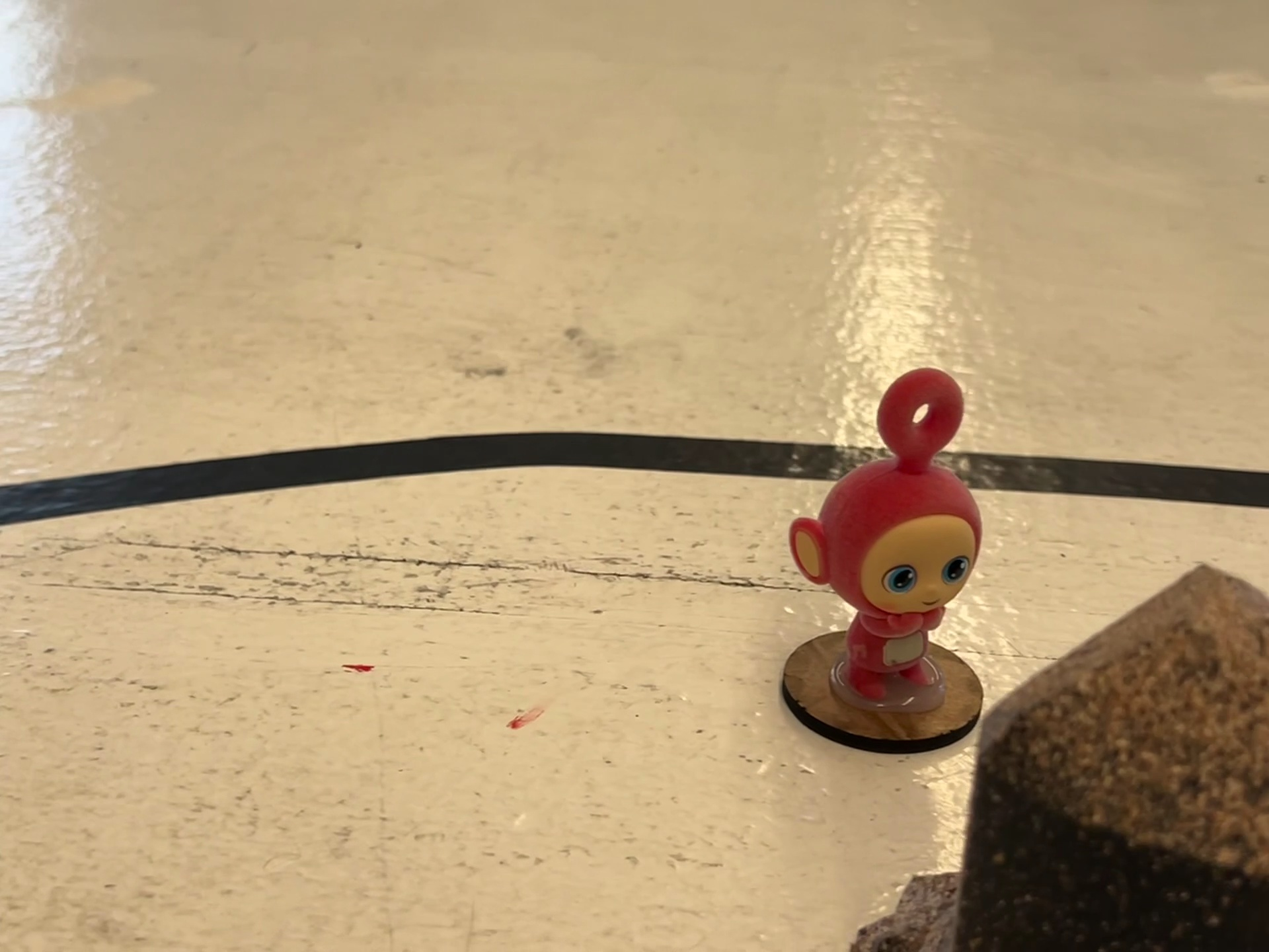teletubby: (788, 368, 981, 702)
